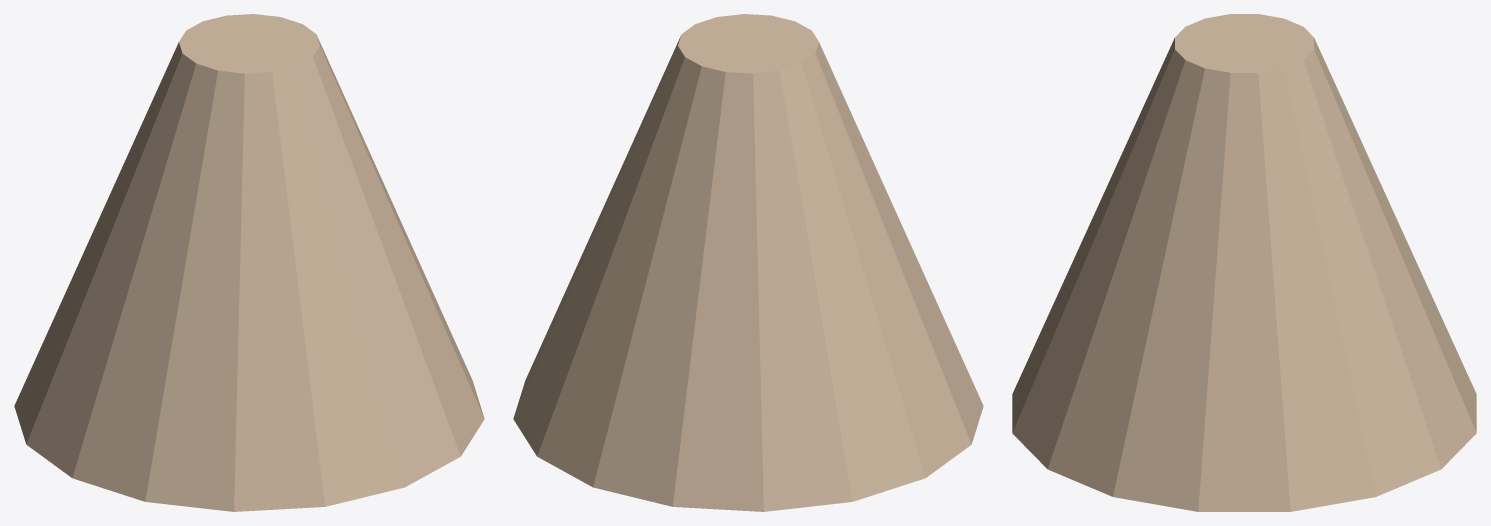
The model's file is nose collider.obj.
The picture shows the model from 3 angles, left to right: view 1: azimuth 30°, elevation 25°; view 2: azimuth 150°, elevation 25°; view 3: azimuth 270°, elevation 25°; orthographic projection.
Parts seen in each view (by area): view 1: c; view 2: c; view 3: c.
Boxes of the visible parts, x1,y1,x2,y2 form: c: (14, 14, 484, 511); c: (513, 14, 983, 511); c: (1012, 14, 1476, 511).
Size of the model in its own units: 1.25 by 1.1 by 1.25.
